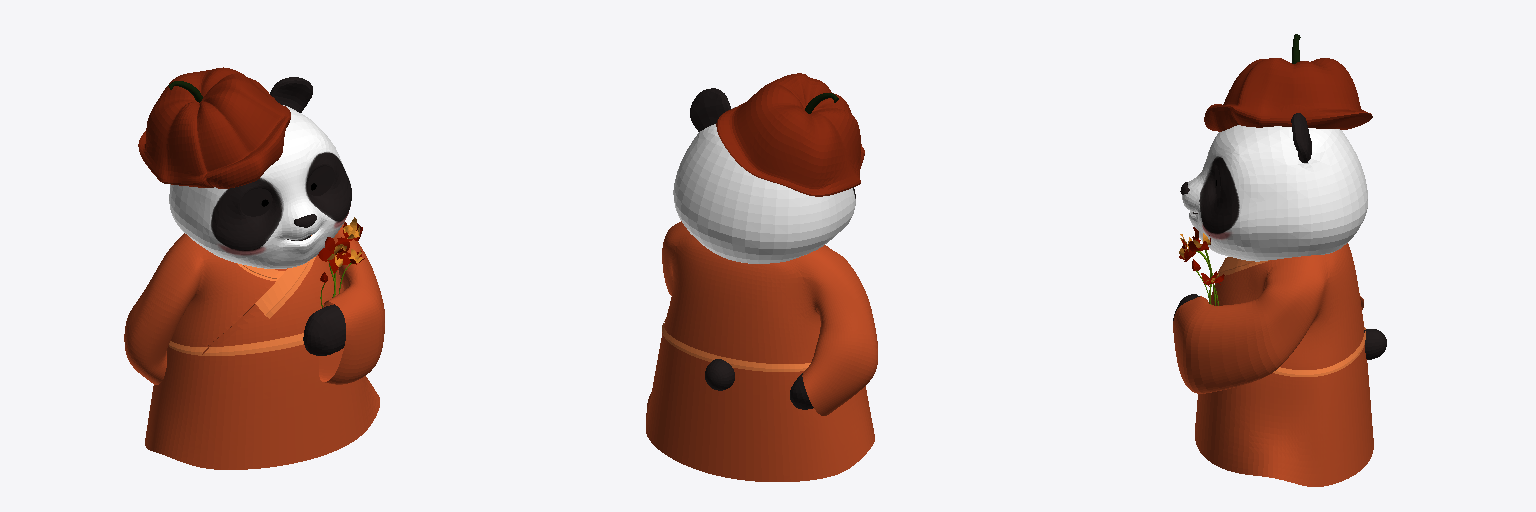
3 views of the same model, side by side, from view 1: azimuth 30°, elevation 25°; view 2: azimuth 150°, elevation 25°; view 3: azimuth 270°, elevation 25° (orthographic).
Parts seen in each view (by area): view 1: panda_body007.040, 013.001, 球体.010, 011.004, panda_body007.039, panda_body007.041; view 2: panda_body007.040, 013.001, 球体.010, panda_body007.041, 005.002; view 3: panda_body007.040, 013.001, 球体.010, 005.002.
Part boxes in pixels (x1,y1,x2,y2): panda_body007.040: (124, 222, 384, 469); 013.001: (169, 77, 351, 268); 球体.010: (138, 67, 290, 188); 011.004: (303, 304, 345, 355); panda_body007.039: (255, 235, 315, 318); panda_body007.041: (169, 333, 303, 352); panda_body007.040: (646, 221, 877, 481); 013.001: (673, 88, 855, 263); 球体.010: (716, 73, 864, 196); panda_body007.041: (662, 319, 810, 368); 005.002: (705, 359, 734, 390); panda_body007.040: (1173, 243, 1373, 486); 013.001: (1182, 113, 1367, 261); 球体.010: (1204, 58, 1372, 131); 005.002: (1364, 329, 1386, 359).
Size of the model in its own units: 6.39 by 9.67 by 5.04.
Materials: 9 (1 with a texture image).